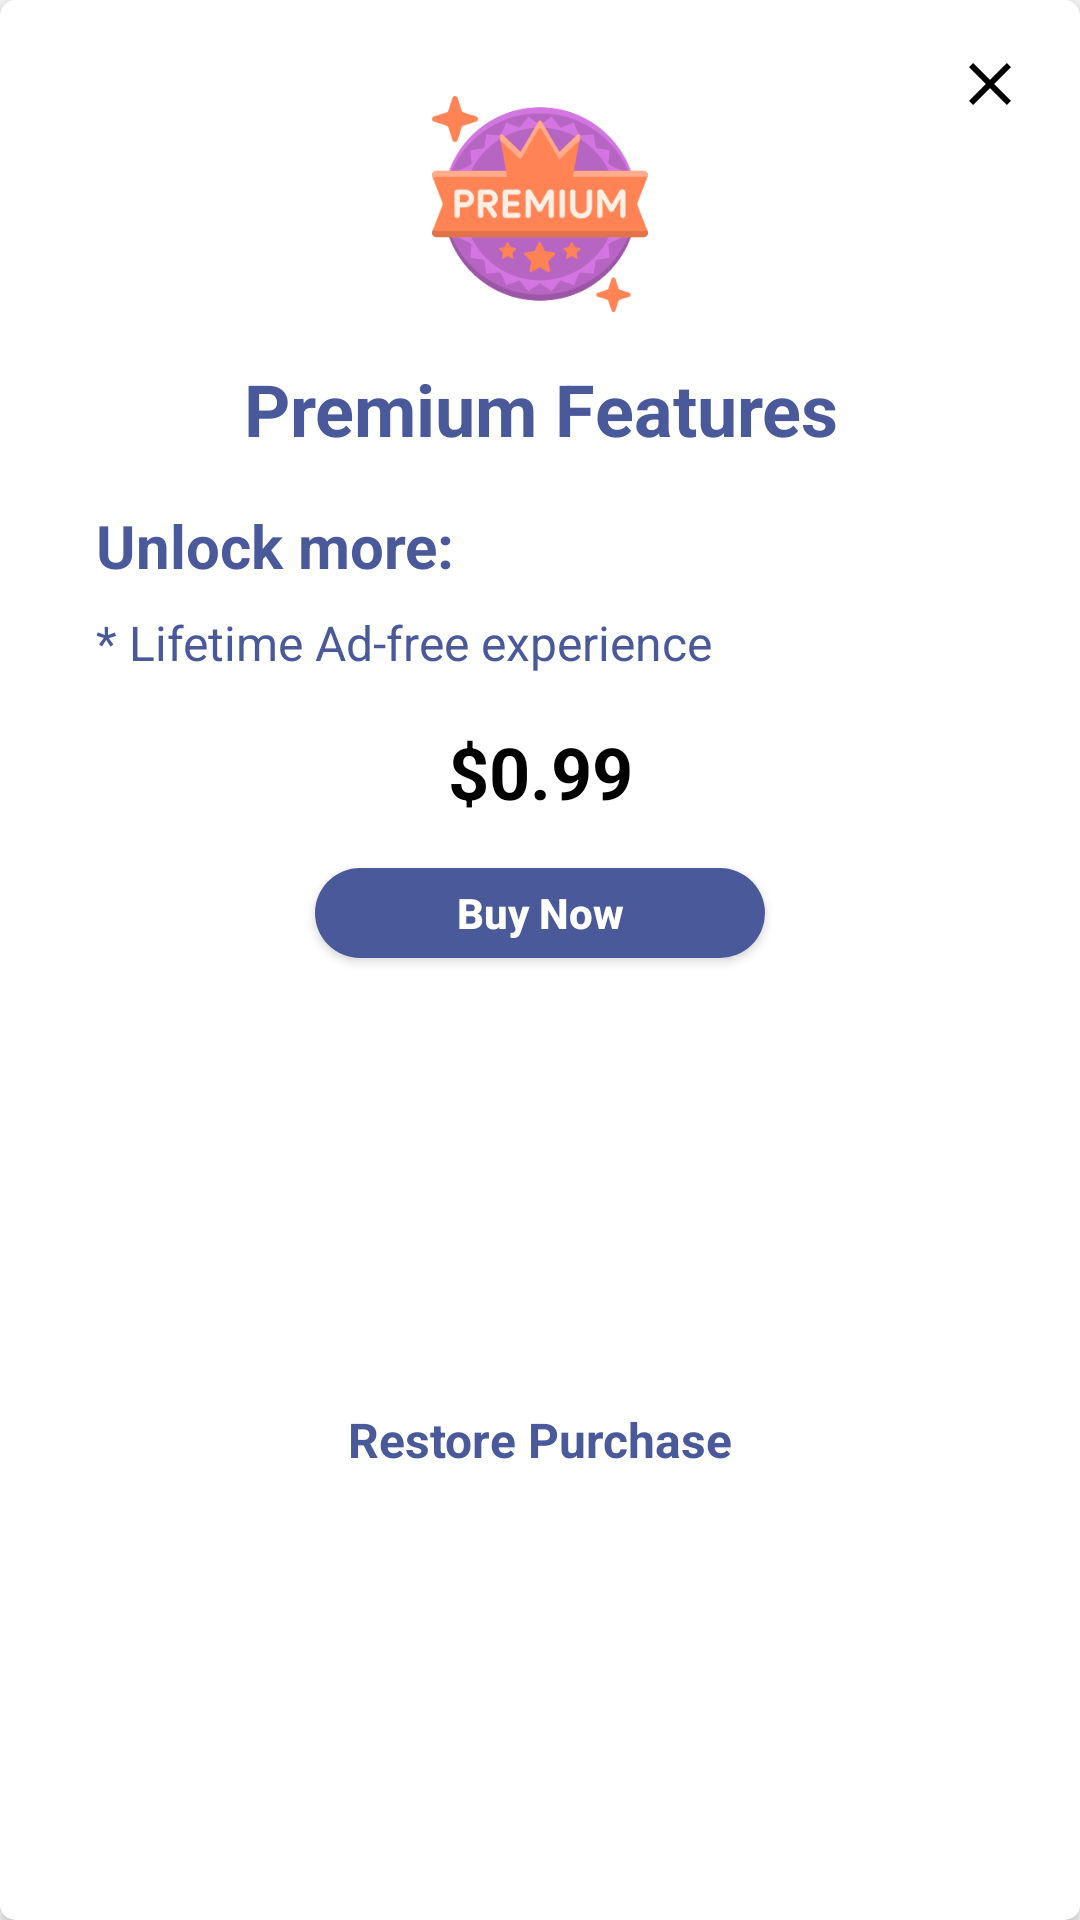

Named icons in this screenshot (1080px×1920px) and their bounding boxes, (x1, y1, x2, y2):
close: (969, 63, 1011, 105)
